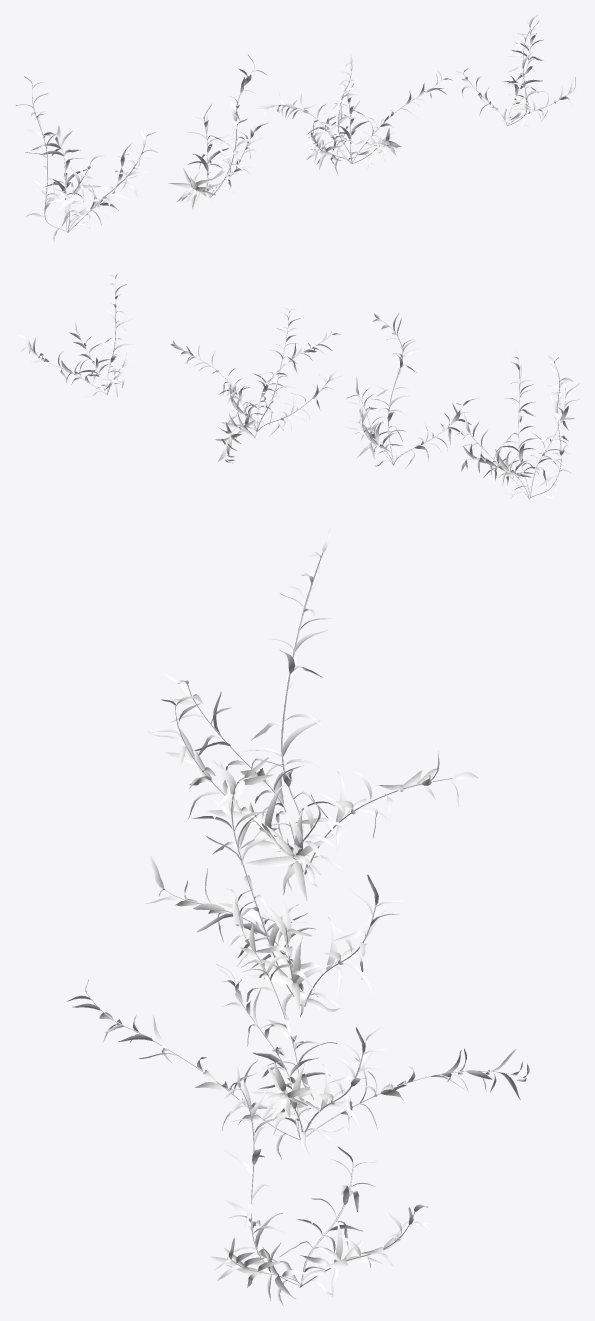
Rendered from PH_Shrub_02.glb.
3 renders of one model, top to bottom at view 1: azimuth 30°, elevation 25°; view 2: azimuth 150°, elevation 25°; view 3: azimuth 270°, elevation 25°, orthographic. The views are drawn at different scales.
Visible parts, largest first — view 1: shrub_02_c_LOD0, shrub_02_a_LOD0, shrub_02_b_LOD0, shrub_02_d_LOD0; view 2: shrub_02_a_LOD0, shrub_02_c_LOD0, shrub_02_b_LOD0, shrub_02_d_LOD0; view 3: shrub_02_a_LOD0, shrub_02_c_LOD0, shrub_02_b_LOD0, shrub_02_d_LOD0.
Boxes of the visible parts, <box> form: shrub_02_c_LOD0: <box>257,52,452,174</box>; shrub_02_a_LOD0: <box>15,76,157,242</box>; shrub_02_b_LOD0: <box>168,54,268,209</box>; shrub_02_d_LOD0: <box>455,14,580,129</box>; shrub_02_a_LOD0: <box>455,350,579,499</box>; shrub_02_c_LOD0: <box>170,307,342,463</box>; shrub_02_b_LOD0: <box>345,313,479,468</box>; shrub_02_d_LOD0: <box>14,274,134,398</box>; shrub_02_a_LOD0: <box>147,528,478,900</box>; shrub_02_c_LOD0: <box>67,888,529,1159</box>; shrub_02_b_LOD0: <box>145,757,404,1018</box>; shrub_02_d_LOD0: <box>210,1066,432,1305</box>.
Size of what is drawn, in the model's own units: 4.92 by 1.38 by 1.86.
1 material, 1 textured.
